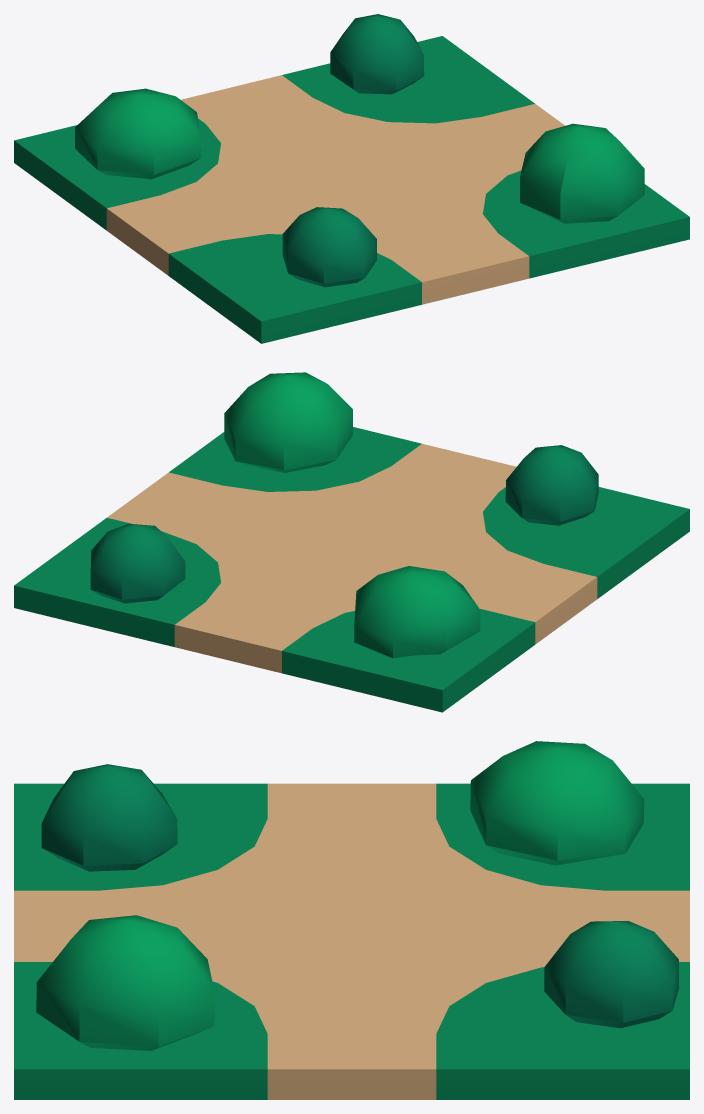
File: park_road_junction_decorated_A.glb
3 renders of one model, top to bottom at view 1: azimuth 30°, elevation 25°; view 2: azimuth 150°, elevation 25°; view 3: azimuth 270°, elevation 25°, orthographic. The views are drawn at different scales.
Parts seen in each view (by area): view 1: park_road_junction_decorated_A; view 2: park_road_junction_decorated_A; view 3: park_road_junction_decorated_A.
Part boxes in pixels (x1=…): park_road_junction_decorated_A: x1=14, y1=14, x2=689, y2=343; park_road_junction_decorated_A: x1=14, y1=372, x2=689, y2=712; park_road_junction_decorated_A: x1=14, y1=741, x2=689, y2=1099.
Bounding box in the file's own units: 2 × 0.4366 × 2.
Materials: 1 (1 with a texture image).
